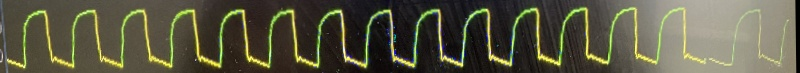normal_pressure: (0, 0, 713, 73)
